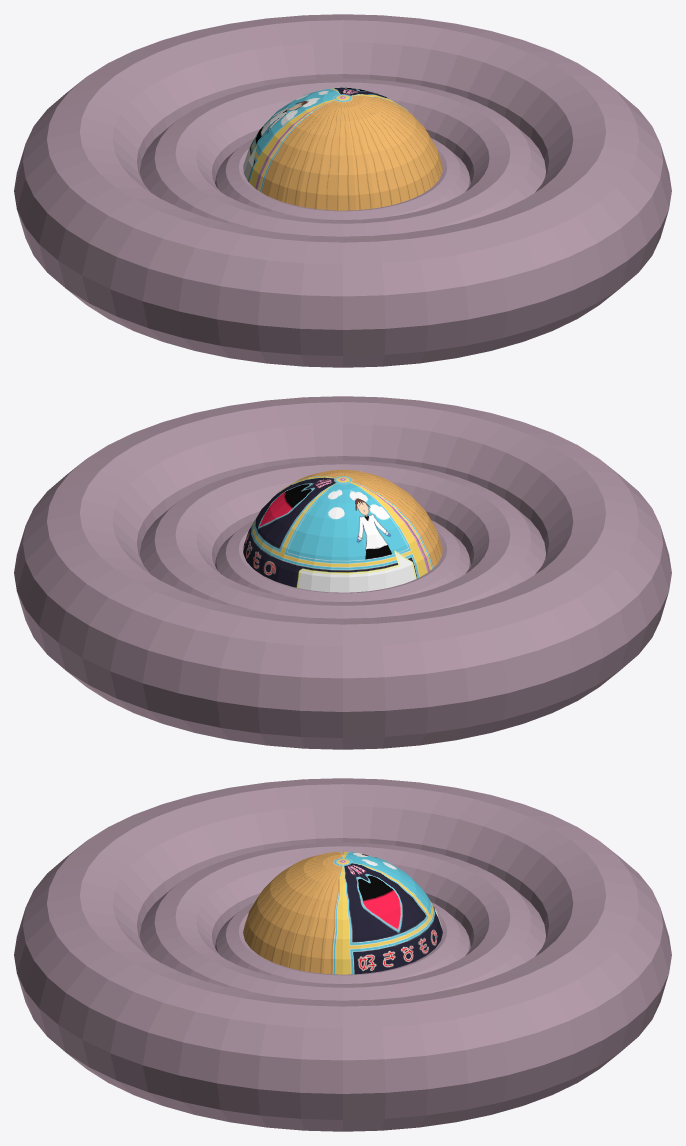
File: enemyType1.obj
The picture shows the model from 3 angles, top to bottom: view 1: azimuth 30°, elevation 25°; view 2: azimuth 150°, elevation 25°; view 3: azimuth 270°, elevation 25°; orthographic projection.
Parts seen in each view (by area): view 1: 球; view 2: 球; view 3: 球.
Boxes of the visible parts, x1,y1,x2,y2 form: 球: (14, 14, 671, 367); 球: (14, 396, 671, 749); 球: (14, 778, 671, 1131).
Size of the model in its own units: 2.14 by 0.6718 by 2.14.
